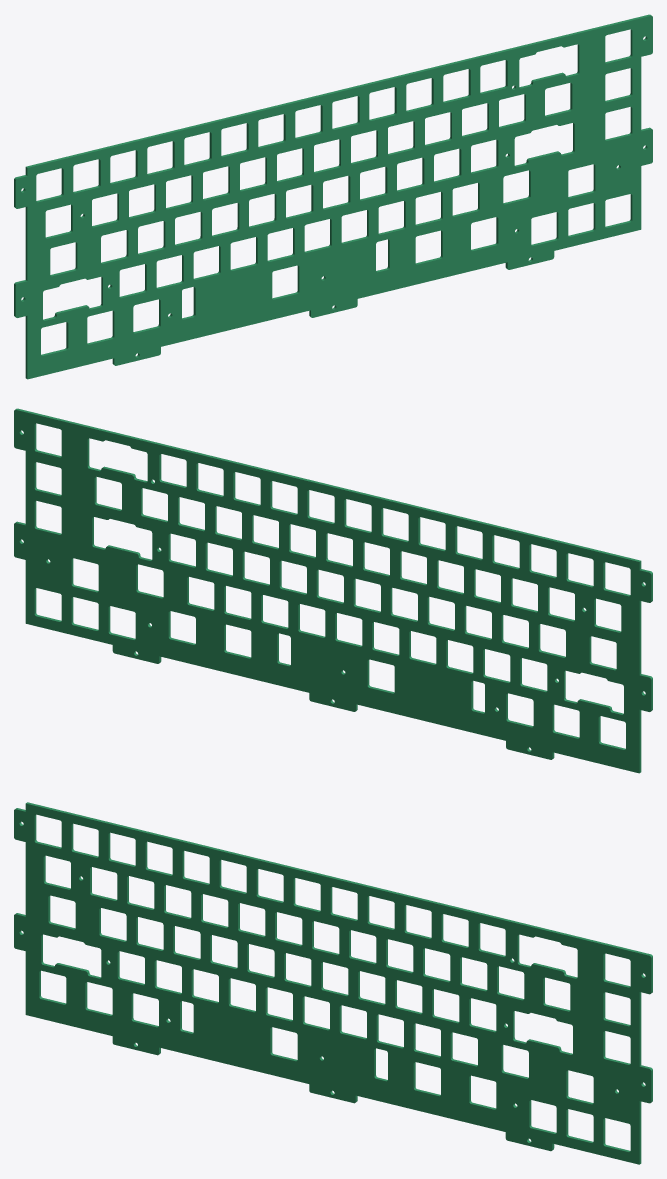
File: staccato65_plate.obj
3 views of the same model, one above another, from view 1: azimuth 30°, elevation 25°; view 2: azimuth 150°, elevation 25°; view 3: azimuth 330°, elevation 25° (orthographic).
Visible parts, largest first — view 1: Pcb_184b; view 2: Pcb_184b; view 3: Pcb_184b.
Boxes of the visible parts, x1,y1,x2,y2 form: Pcb_184b: [14, 14, 652, 379]; Pcb_184b: [14, 408, 652, 773]; Pcb_184b: [14, 802, 652, 1164].
Size of the model in its own units: 328 by 108 by 1.6.
